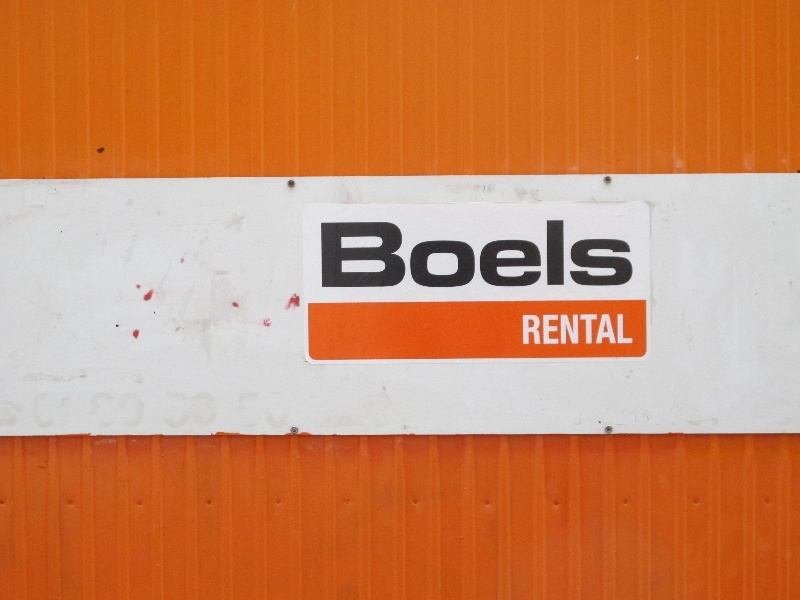text: (321, 219, 336, 289), (337, 219, 352, 289), (353, 219, 368, 289), (369, 219, 384, 289), (385, 219, 400, 289), (401, 219, 416, 289), (417, 219, 432, 289), (433, 219, 448, 289), (449, 219, 464, 289), (465, 219, 480, 289), (481, 219, 496, 289), (497, 219, 512, 289), (513, 219, 528, 289), (529, 219, 544, 289), (545, 219, 560, 289), (561, 219, 576, 289), (577, 219, 592, 289), (593, 219, 608, 289), (609, 219, 624, 289), (625, 219, 635, 289), (529, 314, 544, 345), (545, 314, 560, 345), (561, 314, 576, 345), (577, 314, 592, 345), (593, 314, 608, 345), (609, 314, 624, 345), (625, 314, 633, 345), (522, 314, 528, 345)
